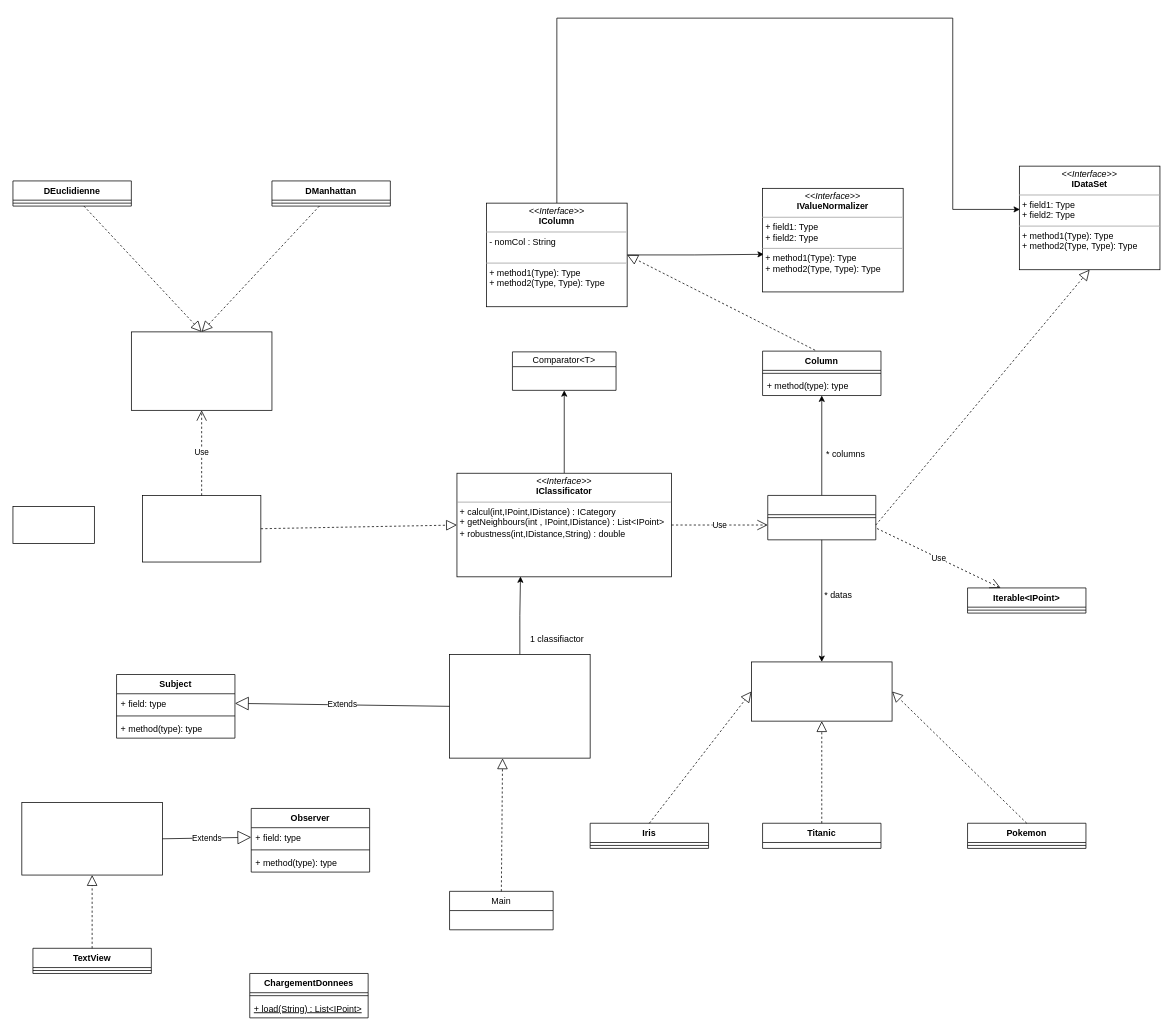
This 1173x1033 diagram has some shape labels left out. Here are the shapes that lost their labels. From the top down, the centre of each, then its label:
At (201,370): "<<Interface>> IDistance + distance(IPoint,IPoint) : double".
At (53,525): "«interface» ICategory".
At (201,528): "MethodeKNN - datas : DataSet".
At (821,517): "DataSet".
At (519,706): "<<Interface>> IMVCModel + run() : void".
At (821,691): "<<Interface>> IPoint IPoint()".
At (91,838): "<<Interface>> IView + display() : void".
